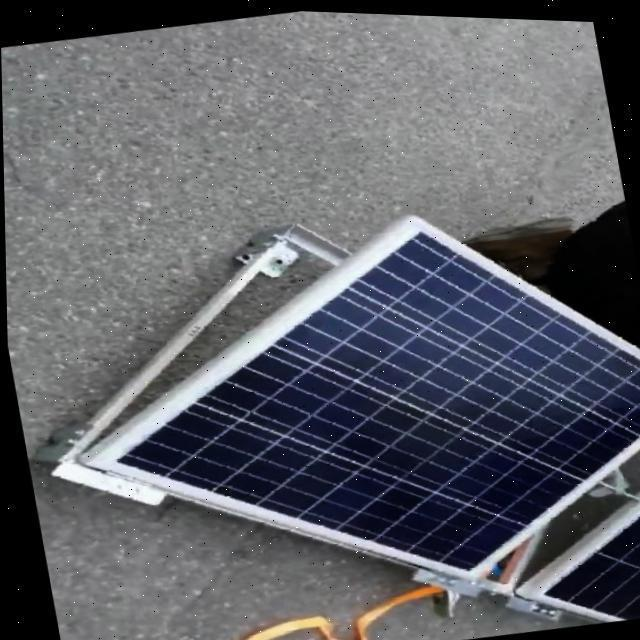Normal Solar Panel: (40, 165, 640, 635), (491, 432, 640, 633)
